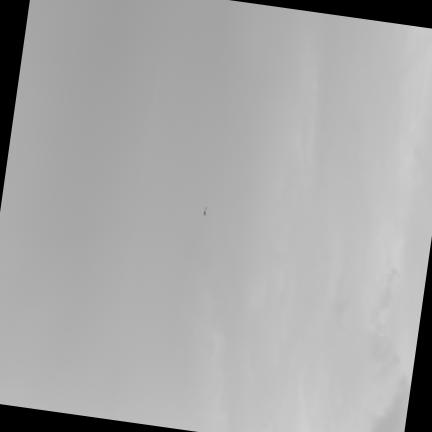Shahed: (203, 206, 206, 214)
